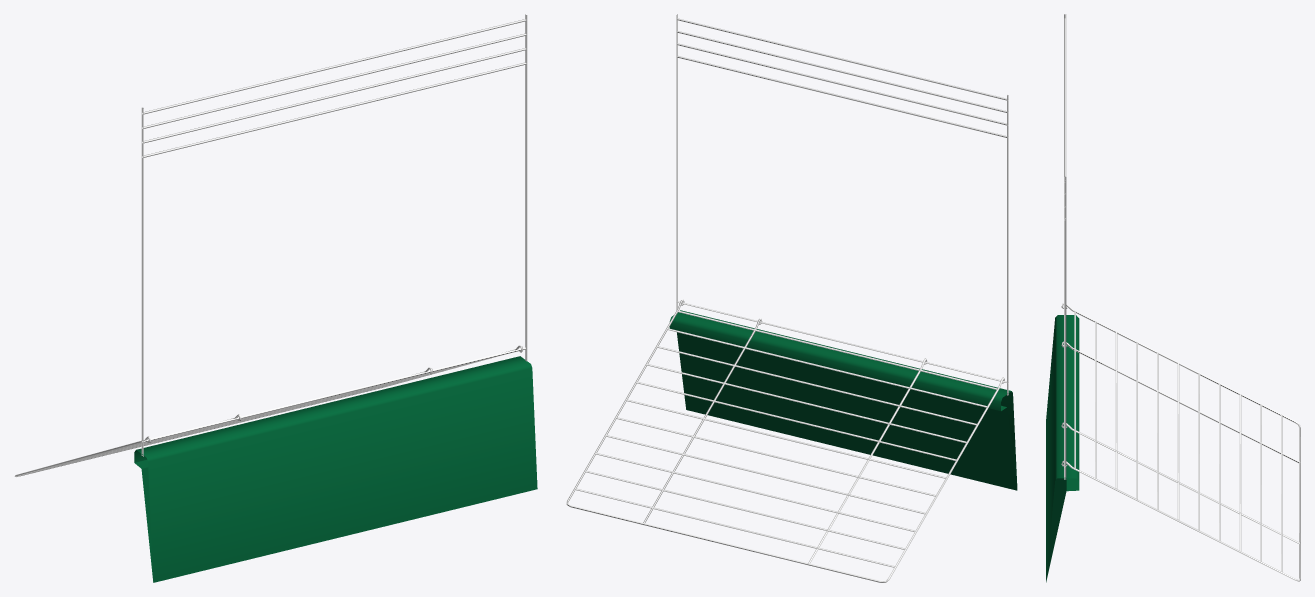
The model's file is Gabbia_muro_d.fbx.
3 views of the same model, side by side, from view 1: azimuth 30°, elevation 25°; view 2: azimuth 150°, elevation 25°; view 3: azimuth 270°, elevation 25° (orthographic). The views are drawn at different scales.
Parts seen in each view (by area): view 1: mesh; view 2: mesh; view 3: mesh.
Boxes of the visible parts, box(x1,y1,x2,y2) form: mesh: box(14, 14, 537, 582); mesh: box(566, 14, 1017, 582); mesh: box(1046, 14, 1300, 582).
Size of what is drawn, in the model's own units: 12003 by 14025 by 7925.
Materials: 2 (2 with a texture image).
